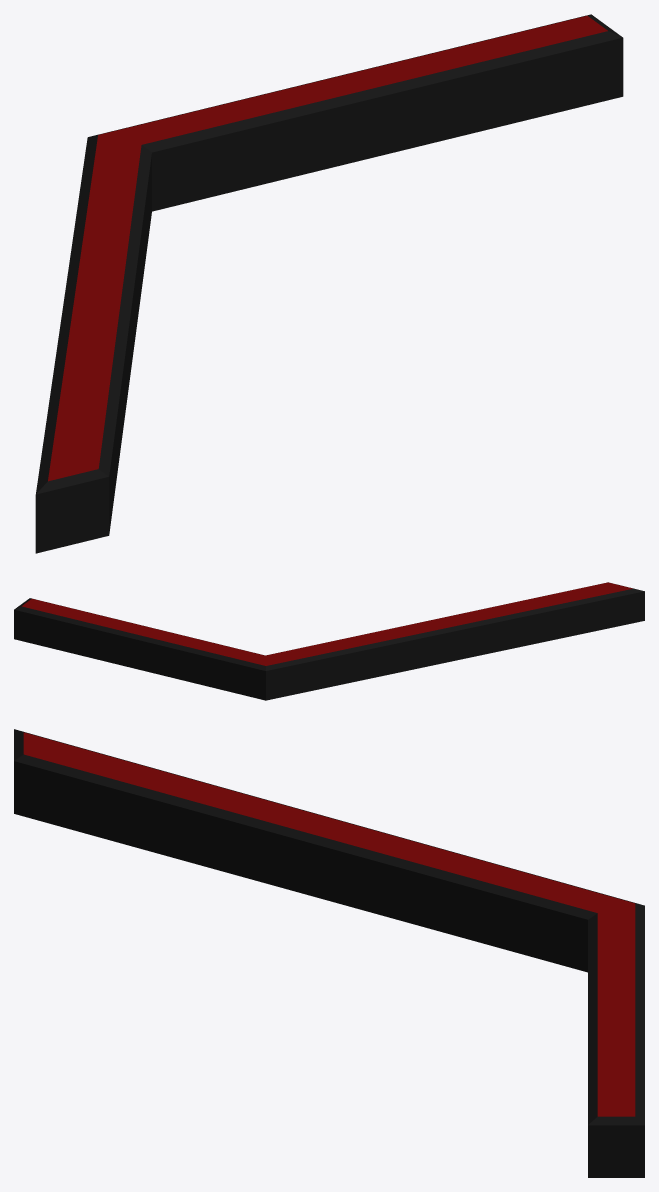
Rendered from Side Blockers.FBX.
3 renders of one model, top to bottom at view 1: azimuth 30°, elevation 25°; view 2: azimuth 150°, elevation 25°; view 3: azimuth 270°, elevation 25°, orthographic. The views are drawn at different scales.
Visible parts, largest first — view 1: Box002; view 2: Box002; view 3: Box002.
Boxes of the visible parts, x1,y1,x2,y2 form: Box002: [35, 14, 623, 553]; Box002: [14, 582, 644, 700]; Box002: [14, 729, 644, 1177].
Size of the model in its own units: 96.62 by 6.5 by 65.05.
